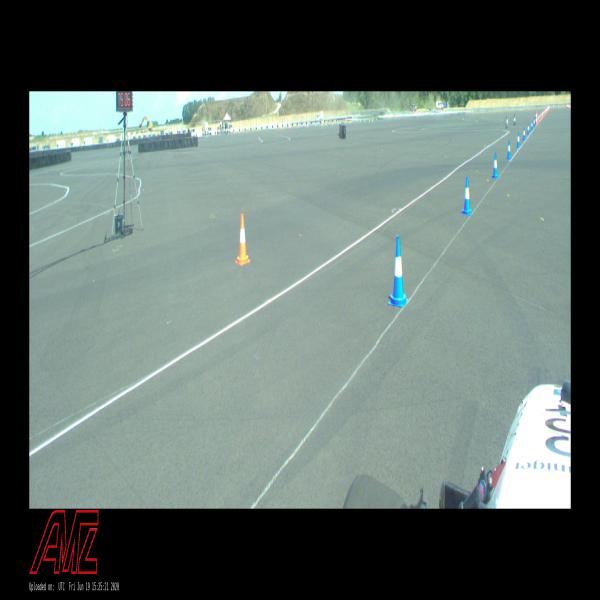blue_cone: (388, 236, 408, 307), (462, 177, 471, 215), (492, 152, 499, 179), (507, 140, 512, 159), (516, 132, 520, 148), (522, 127, 526, 141), (527, 124, 530, 134), (531, 120, 533, 130), (534, 118, 536, 127)
large_orange_cone: (535, 111, 538, 124)
orange_cone: (236, 214, 250, 265)
